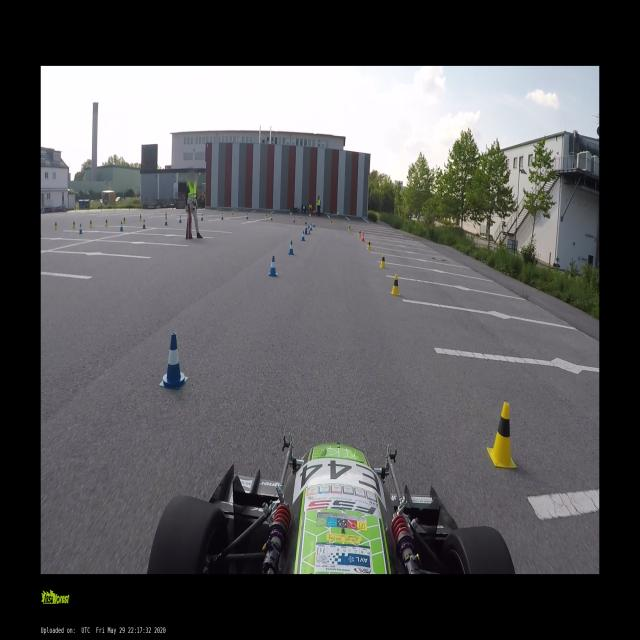blue_cone: (160, 333, 188, 389), (268, 256, 278, 276), (288, 240, 294, 254), (301, 230, 305, 242), (78, 224, 82, 235), (119, 221, 123, 232), (142, 219, 145, 229), (312, 220, 316, 227), (164, 217, 167, 225), (308, 225, 311, 233), (221, 213, 224, 220), (200, 214, 203, 220), (179, 216, 181, 223), (246, 213, 248, 219)
orange_cone: (361, 232, 365, 242)
yellow_cone: (488, 402, 515, 470), (390, 274, 400, 297), (380, 254, 387, 269), (366, 240, 371, 250), (72, 220, 76, 230), (54, 221, 58, 231), (104, 218, 108, 227), (122, 216, 126, 224), (89, 220, 92, 228), (358, 229, 361, 237), (139, 214, 142, 221), (164, 212, 167, 217), (231, 211, 234, 216), (348, 225, 350, 231), (330, 220, 332, 225)
